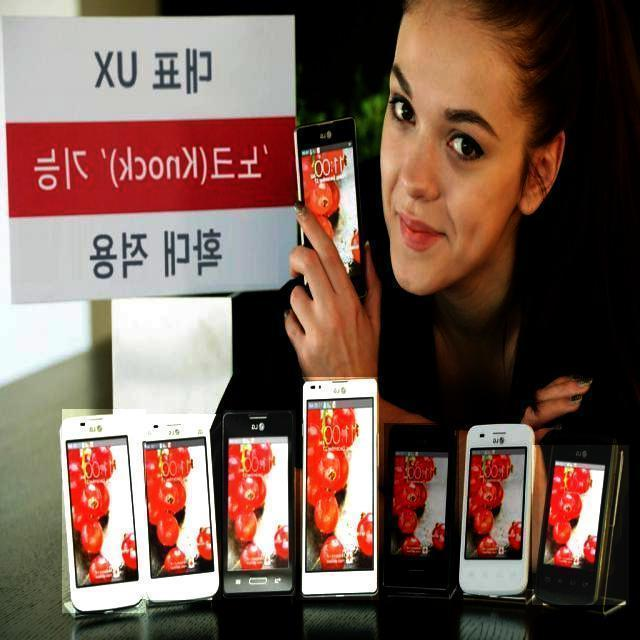mobile: (300, 377, 379, 600), (61, 410, 146, 614), (532, 445, 629, 605), (138, 414, 220, 601), (458, 420, 539, 596), (223, 410, 296, 596), (384, 423, 459, 589)
